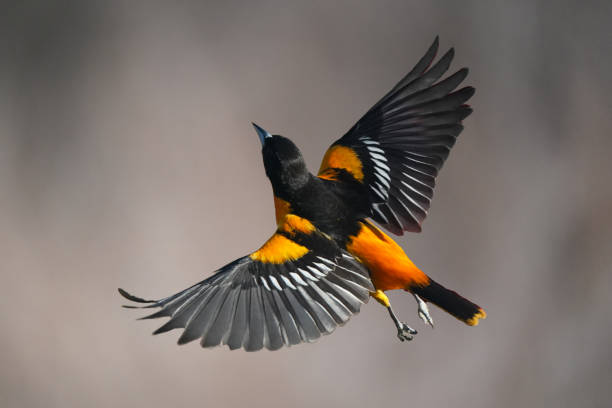Bird: (115, 31, 489, 357)
